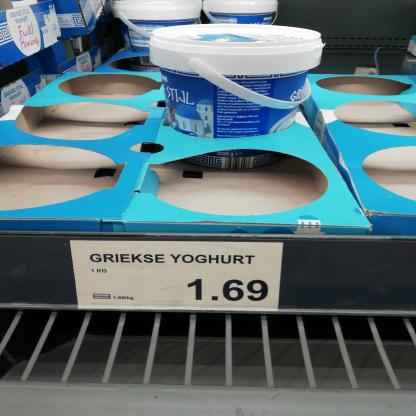prtg: (71, 241, 284, 313)
